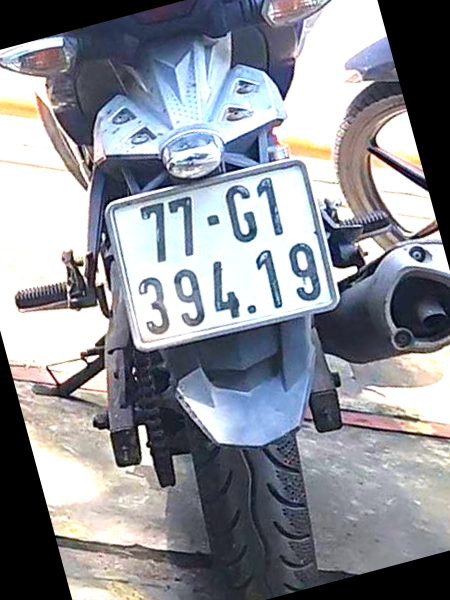number: (107, 162, 335, 352)
